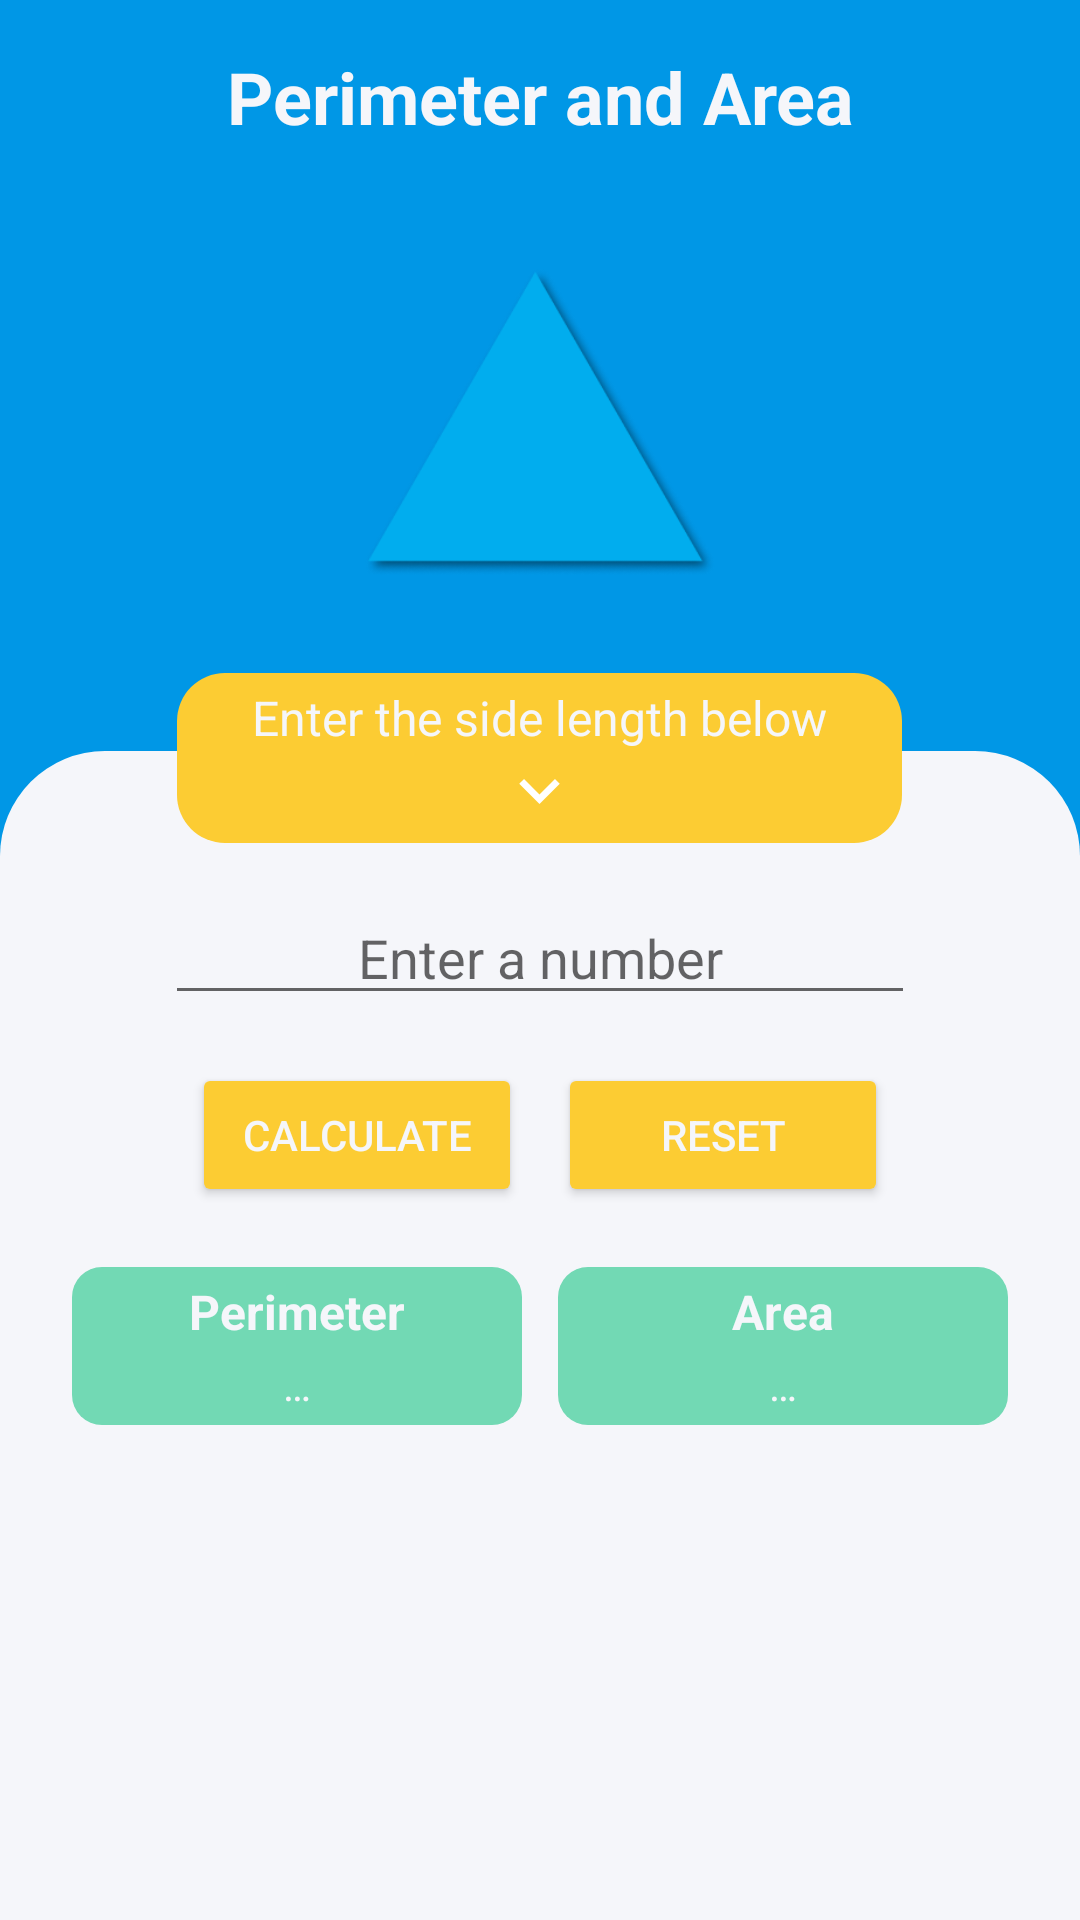

Icons on this 1080px x 1920px Android screen, each with the point to tap as (x=x, y=y):
triangle: (x=540, y=423)
